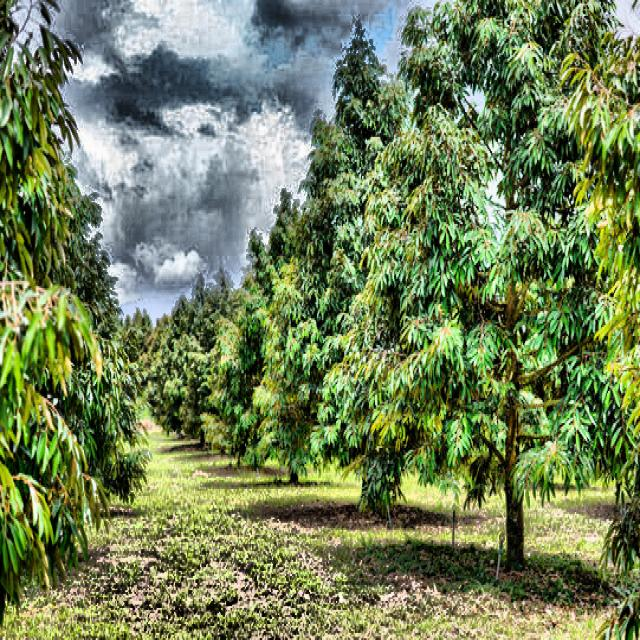arvore: (480, 202, 544, 582)
